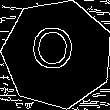O_S: (34, 28, 80, 81)
